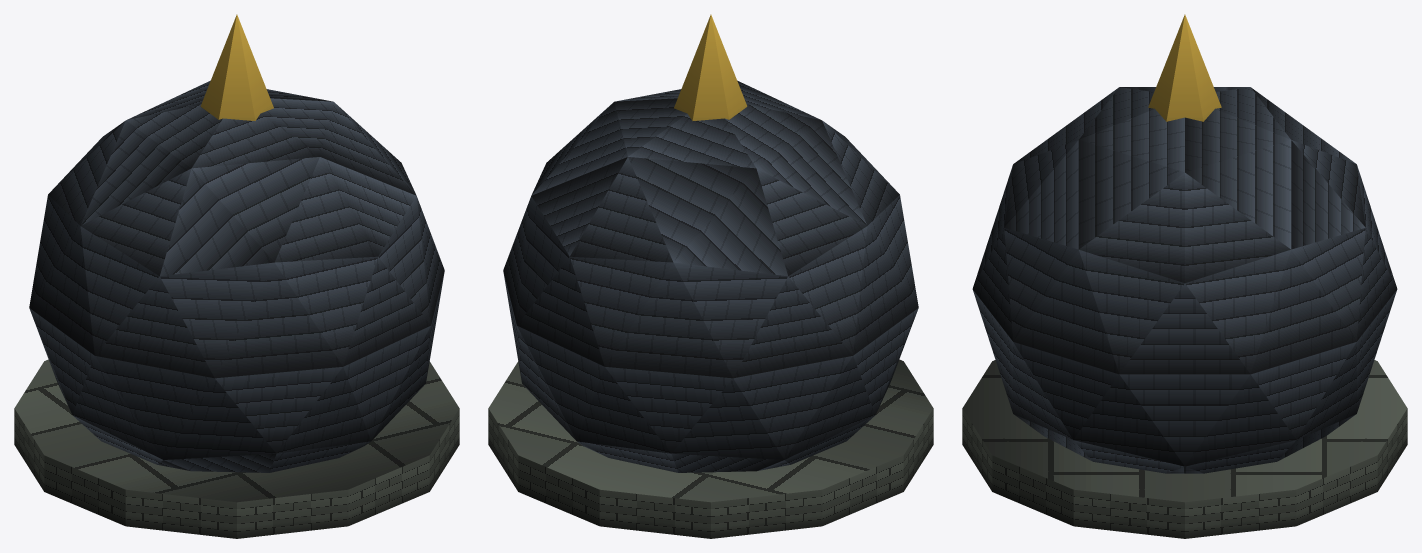
File: cap_dome.gltf
The picture shows the model from 3 angles, left to right: view 1: azimuth 30°, elevation 25°; view 2: azimuth 150°, elevation 25°; view 3: azimuth 270°, elevation 25°; orthographic projection.
Visible parts, largest first — view 1: cap_dome; view 2: cap_dome; view 3: cap_dome.
Part boxes in pixels (x1=…): cap_dome: x1=14, y1=14, x2=459, y2=538; cap_dome: x1=488, y1=14, x2=933, y2=538; cap_dome: x1=962, y1=14, x2=1407, y2=538.
Size of the model in its own units: 0.88 by 1.02 by 0.88.
1 material, 1 textured.
